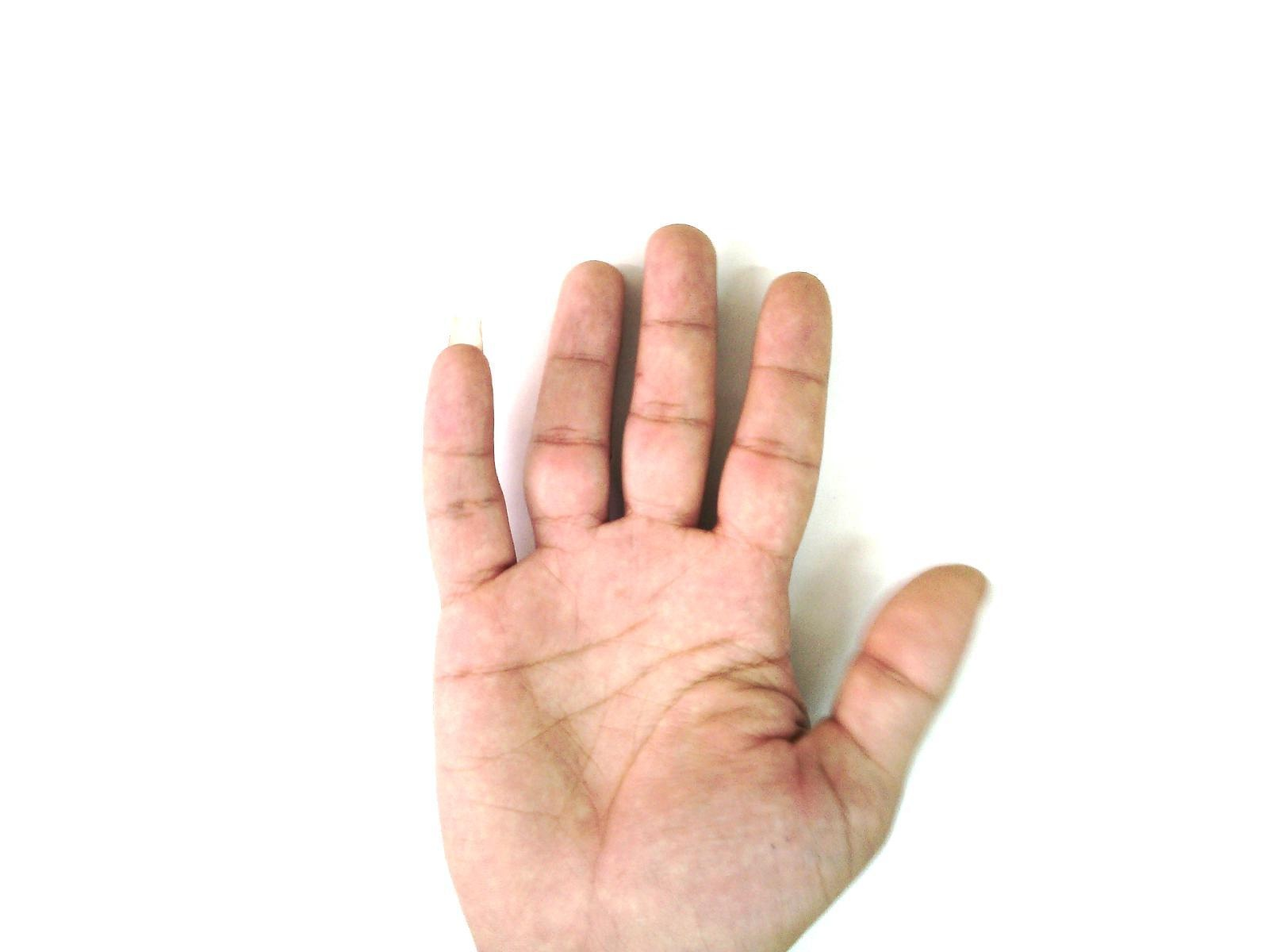open_palm: (418, 222, 991, 951)
